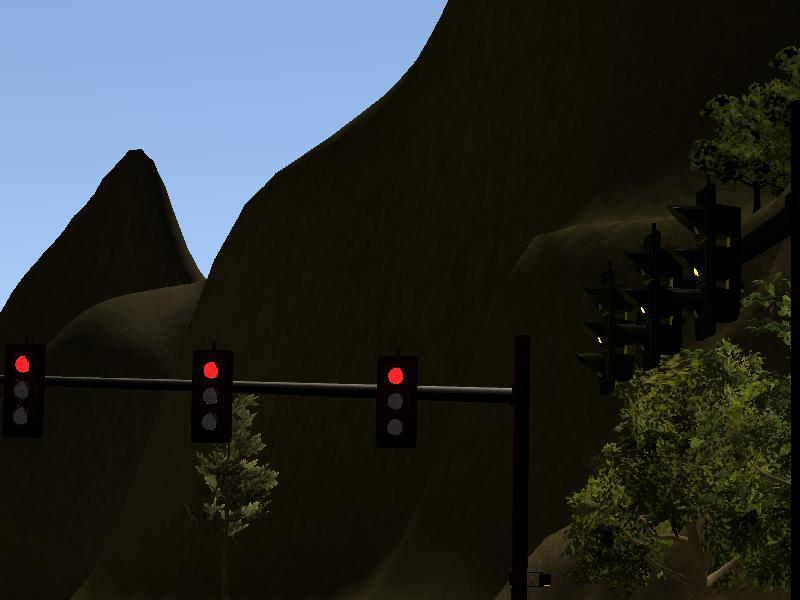Red: (374, 354, 416, 449), (189, 348, 231, 443), (1, 342, 43, 437)
